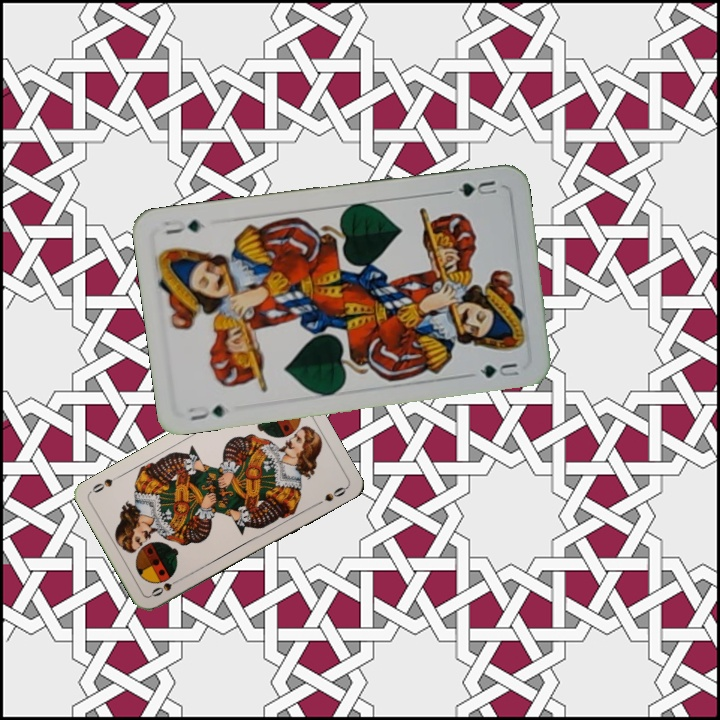GU: (453, 176, 500, 200), (184, 401, 228, 423)
SO: (147, 574, 184, 600)
